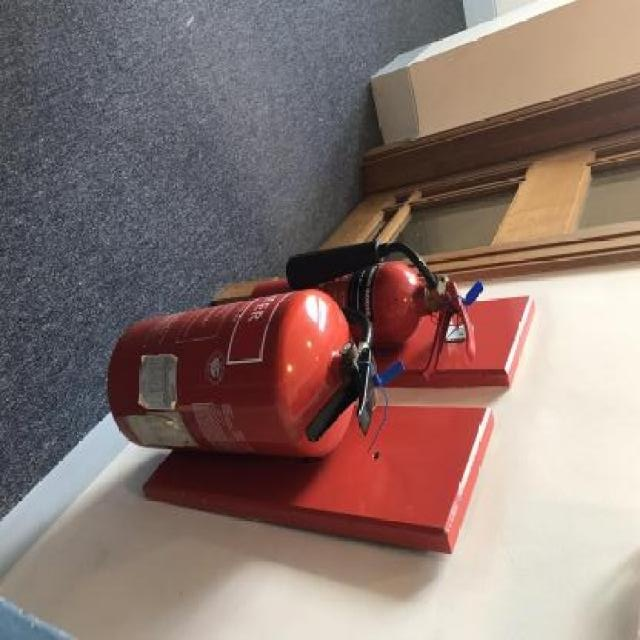fire extinguisher: (107, 287, 378, 462), (216, 237, 476, 380)
